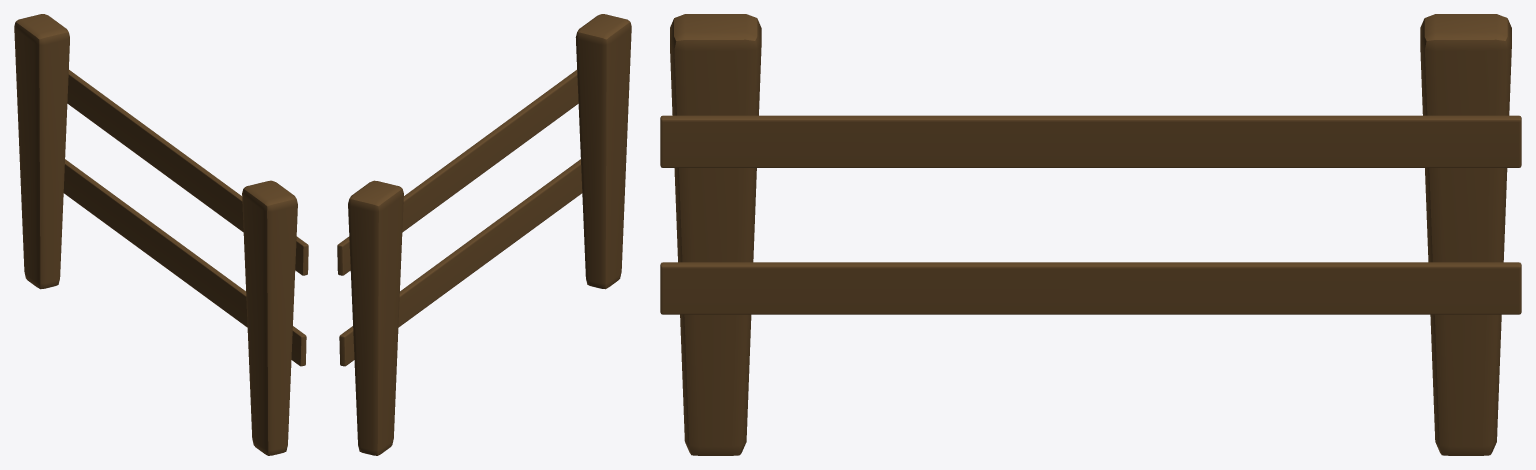
Rendered from Valla_Madera.fbx.
3 views of the same model, side by side, from view 1: azimuth 30°, elevation 25°; view 2: azimuth 150°, elevation 25°; view 3: azimuth 270°, elevation 25° (orthographic). The views are drawn at different scales.
Visible parts, largest first — view 1: pCube5, pCube1, pCube3, pCube4; view 2: pCube1, pCube5, pCube3, pCube4; view 3: pCube4, pCube3, pCube5, pCube1.
Part boxes in pixels (x1,y1,x2,y2): pCube5: [14, 14, 69, 289]; pCube1: [242, 180, 297, 455]; pCube3: [63, 159, 306, 366]; pCube4: [67, 70, 308, 275]; pCube1: [575, 14, 631, 289]; pCube5: [348, 180, 403, 455]; pCube3: [339, 159, 582, 366]; pCube4: [337, 70, 578, 275]; pCube4: [660, 115, 1521, 167]; pCube3: [660, 262, 1521, 314]; pCube5: [1420, 14, 1511, 455]; pCube1: [670, 14, 761, 455].
Size of the model in its own units: 0.8143 by 5.06 by 9.29.
